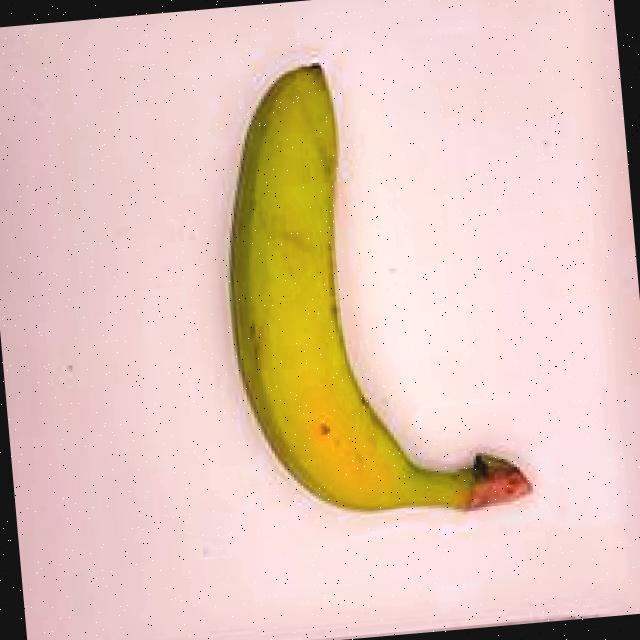Unripe: (198, 39, 552, 564)
